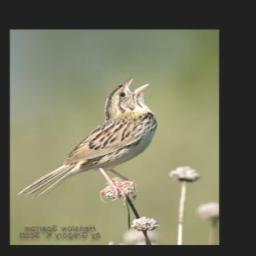Sparrow: (13, 74, 159, 208)
